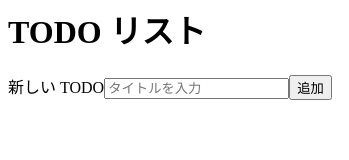
Test: 受入基準2: TODO 追加 › フォームから追加すると POST され、一覧に反映される
The width and height of the screenshot is (349, 160).
Type "新しいタスク" into the field labelled "新しい TODO".
click(197, 88); type("新しいタスク")  # box [104,78,289,99]
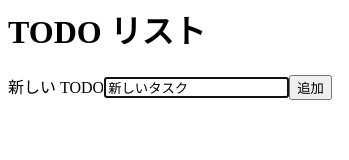
Click the button "追加".
click(311, 87)  # box [289,75,332,100]
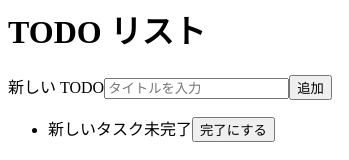
Expected: the text "新しいタスク" is shown, [48,121,144,138]
